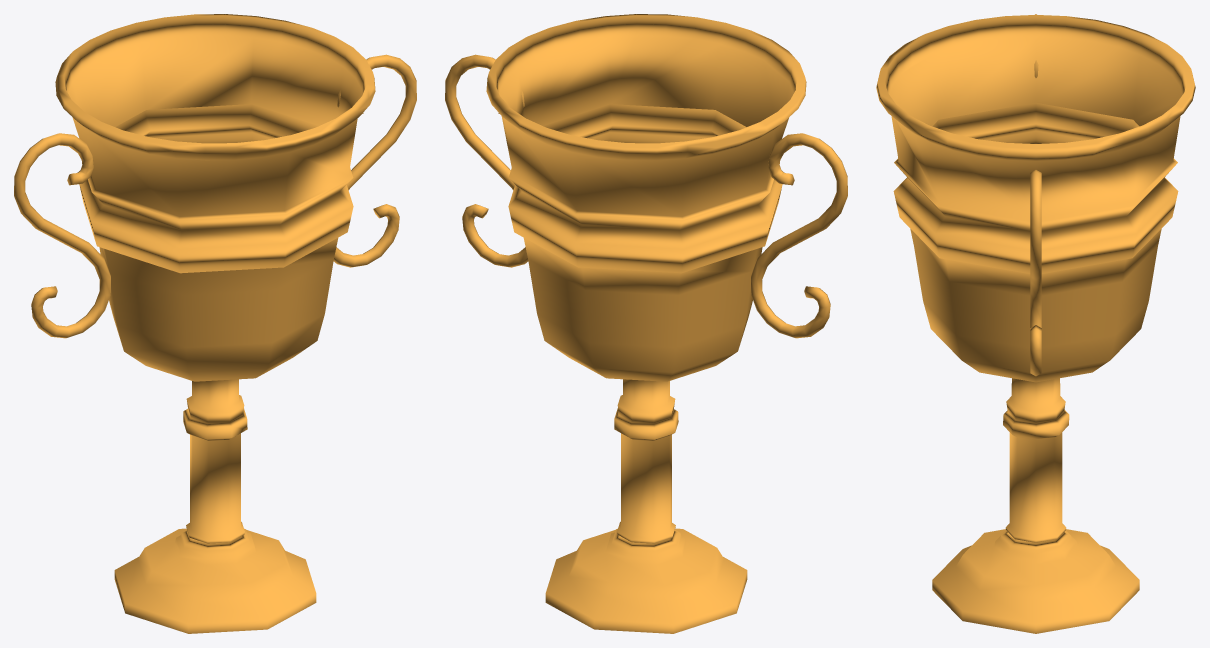
File: Trofy_Collider.fbx
The picture shows the model from 3 angles, left to right: view 1: azimuth 30°, elevation 25°; view 2: azimuth 150°, elevation 25°; view 3: azimuth 270°, elevation 25°; orthographic projection.
Parts seen in each view (by area): view 1: Trofy_Collider; view 2: Trofy_Collider; view 3: Trofy_Collider.
Part boxes in pixels (x1=…): Trofy_Collider: x1=14, y1=14, x2=416, y2=633; Trofy_Collider: x1=445, y1=14, x2=847, y2=633; Trofy_Collider: x1=876, y1=14, x2=1195, y2=633.
Bounding box in the file's own units: 51.95 × 63.09 × 35.82.
